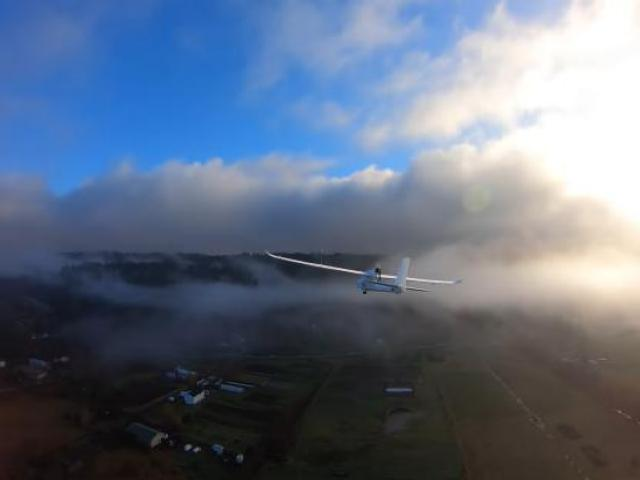uav: (257, 240, 471, 327)
